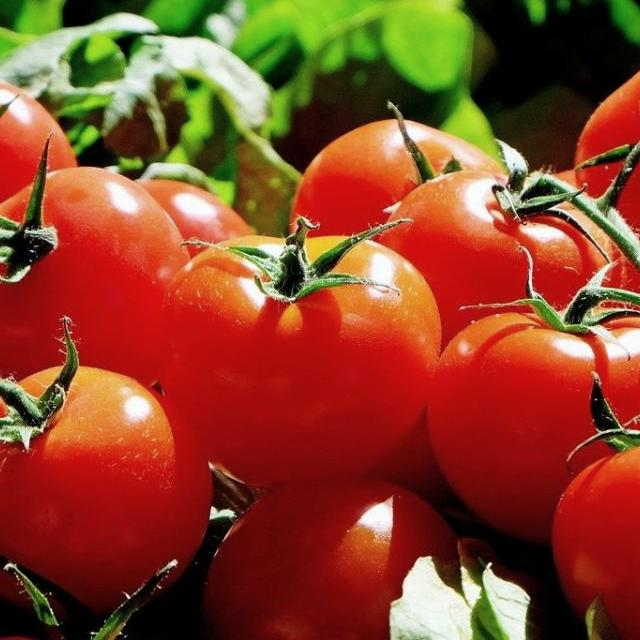tomato: (163, 236, 441, 484), (0, 366, 212, 614), (427, 314, 640, 542), (0, 136, 189, 384), (203, 480, 456, 640), (380, 168, 599, 342), (552, 447, 640, 640), (292, 118, 425, 232), (0, 82, 76, 202), (134, 178, 253, 242), (574, 69, 640, 164), (404, 120, 502, 172), (20, 366, 60, 394)
